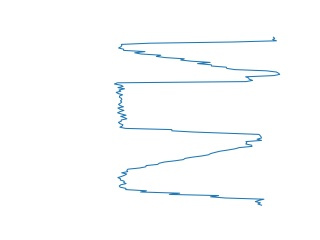distributaryChannelFill: (110, 71, 266, 140)
mouthBar: (115, 33, 284, 78)
underwaterDistributaryChannel: (113, 137, 265, 209)
